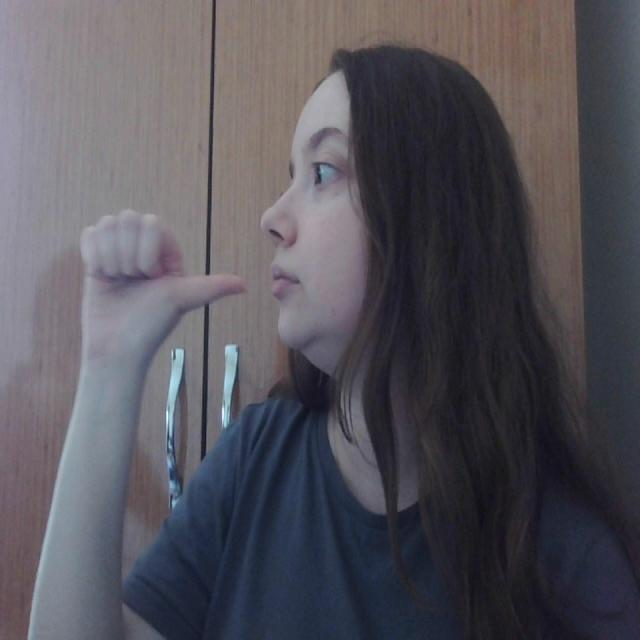icmek: (35, 195, 308, 364)
